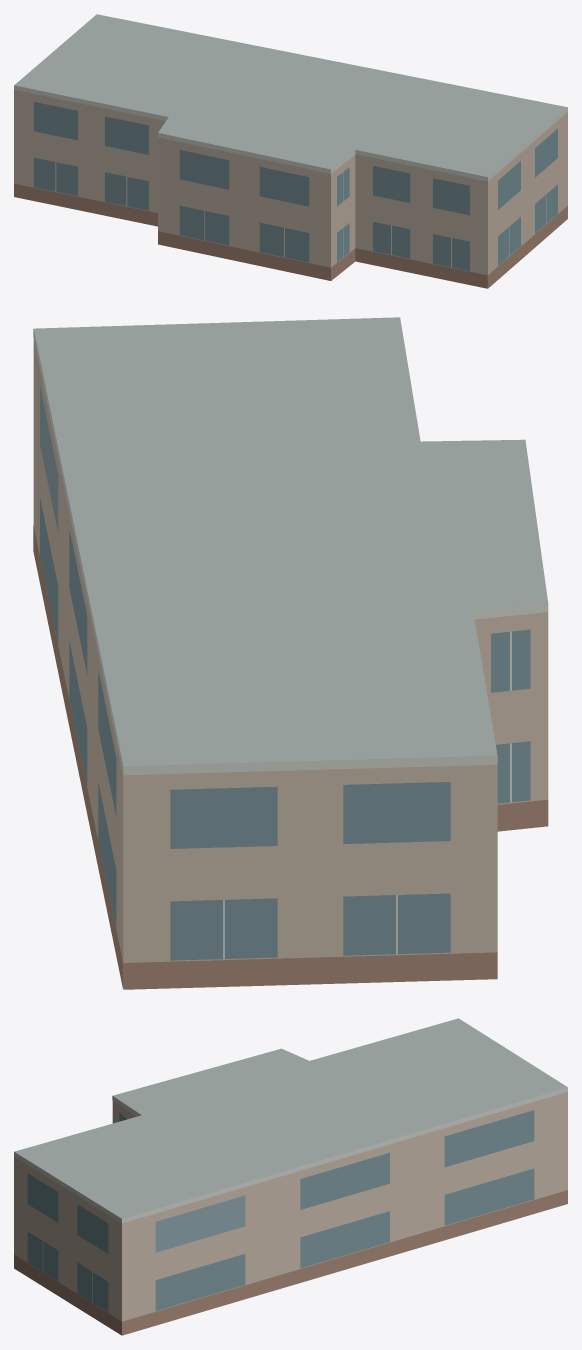
File: survey-upis-32472933.glb
3 views of the same model, one above another, from view 1: azimuth 30°, elevation 25°; view 2: azimuth 150°, elevation 25°; view 3: azimuth 270°, elevation 25° (orthographic). The views are drawn at different scales.
Visible parts, largest first — view 1: survey-upis-32472933.tmp; view 2: survey-upis-32472933.tmp; view 3: survey-upis-32472933.tmp.
Boxes of the visible parts, x1=… form: survey-upis-32472933.tmp: x1=14, y1=14, x2=567, y2=288; survey-upis-32472933.tmp: x1=33, y1=317, x2=548, y2=989; survey-upis-32472933.tmp: x1=14, y1=1018, x2=567, y2=1335.
Size of the model in its own units: 22.48 by 6.1 by 26.23.
